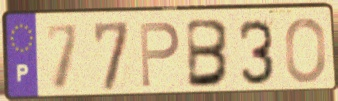3: (237, 17, 278, 87)
7: (90, 19, 131, 93), (45, 22, 81, 93)
B: (186, 17, 233, 91)
O: (283, 15, 328, 85)
P: (137, 20, 182, 90)
